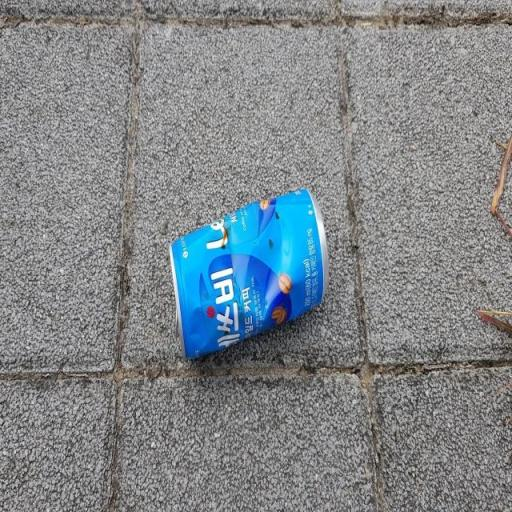metal: (157, 170, 344, 396)
